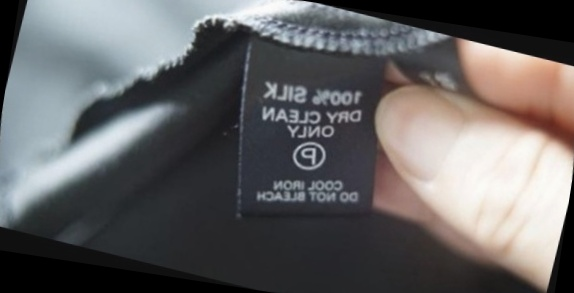dry_clean_any_solvent_except_trichloroethylene: (285, 133, 332, 177)
